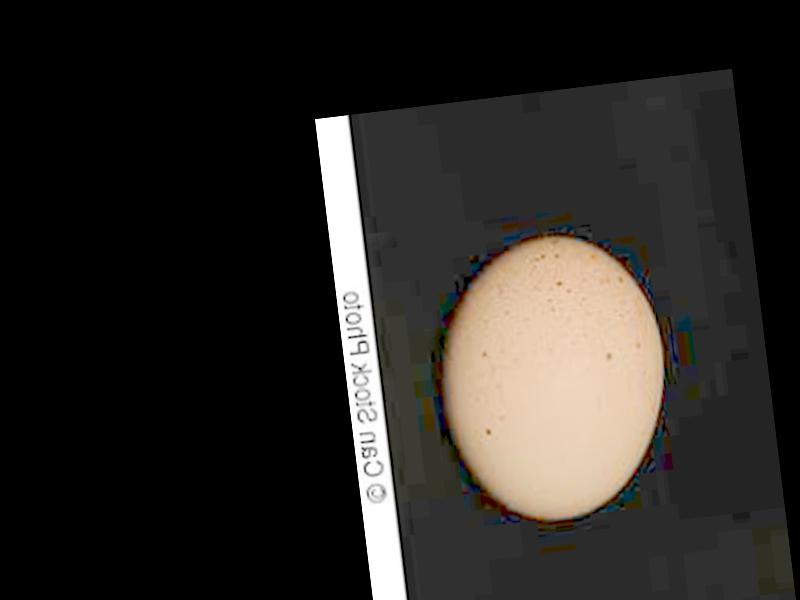Eggs: (426, 227, 679, 531)
